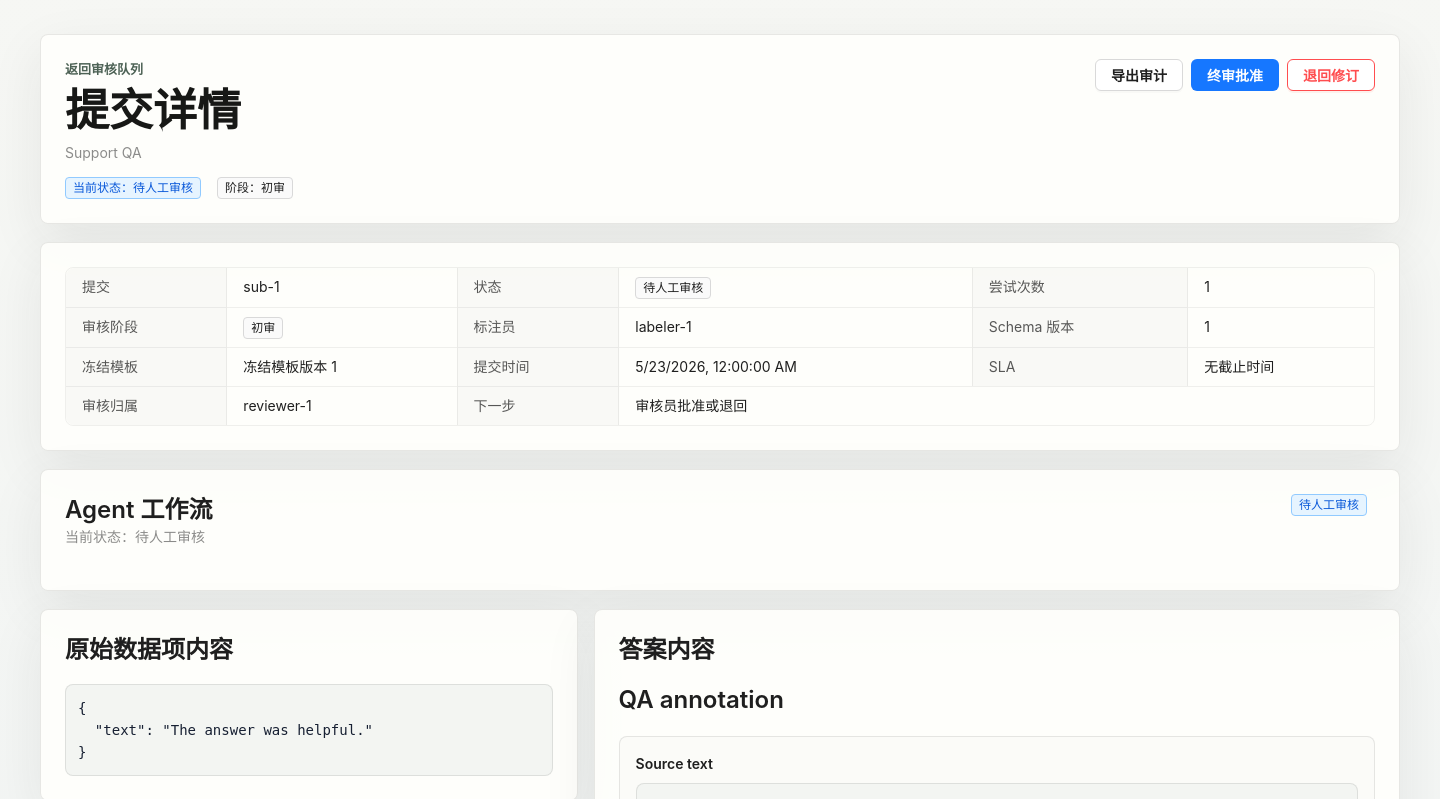
Test: reviewer workspace › shows approve API failures as a localized top message
Click the button "终审批准" at (1235, 75), box [1191,59,1279,91]
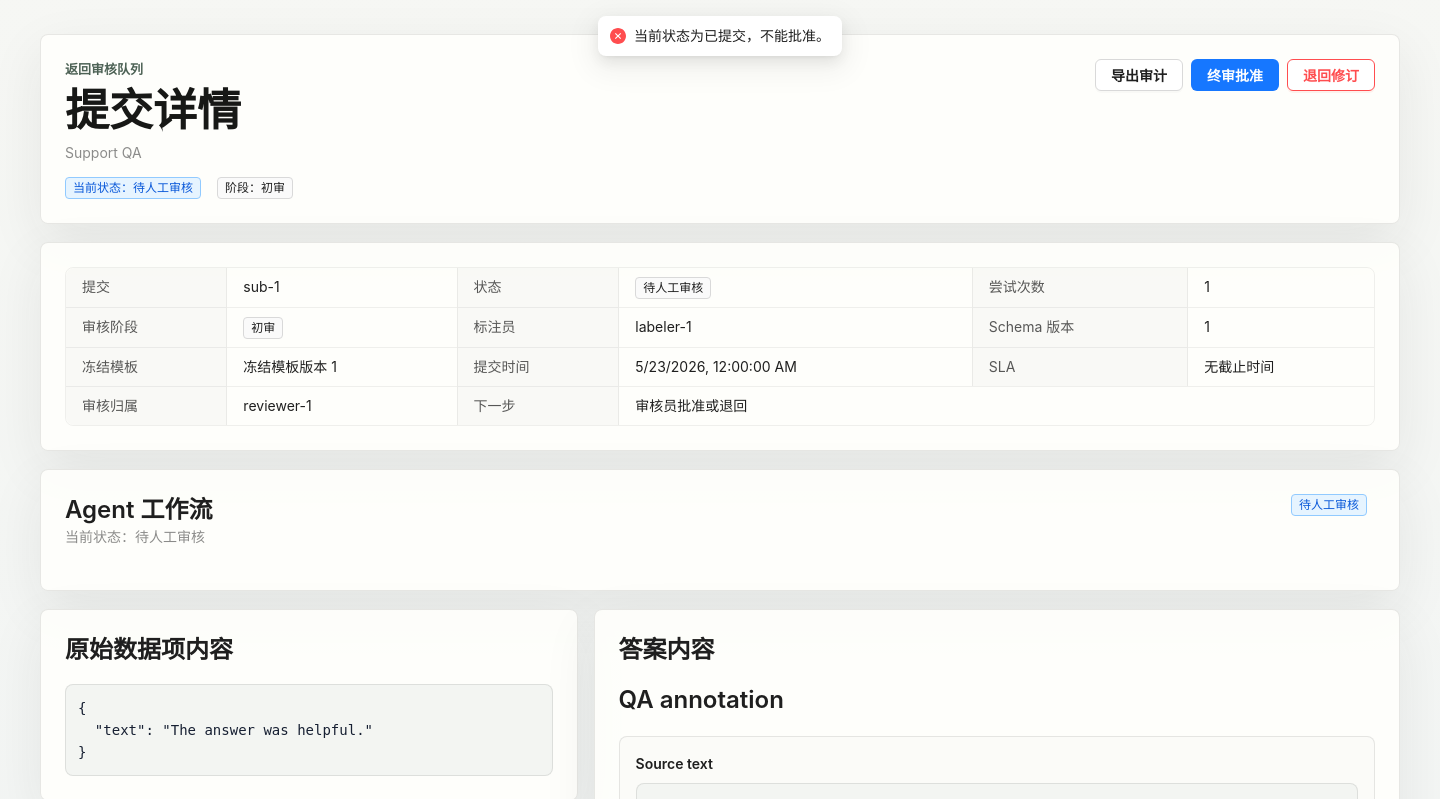
Now the text "当前状态为已提交，不能批准。" is shown, box [634,25,830,47]
